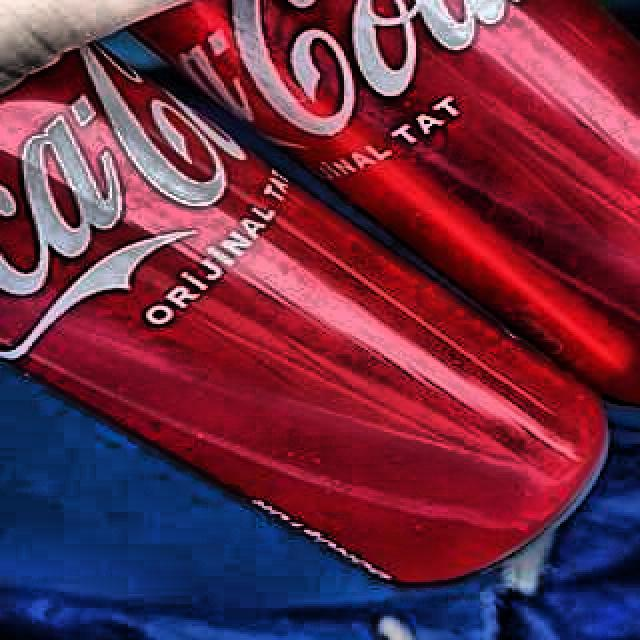metal: (0, 50, 607, 585), (128, 0, 640, 406)
